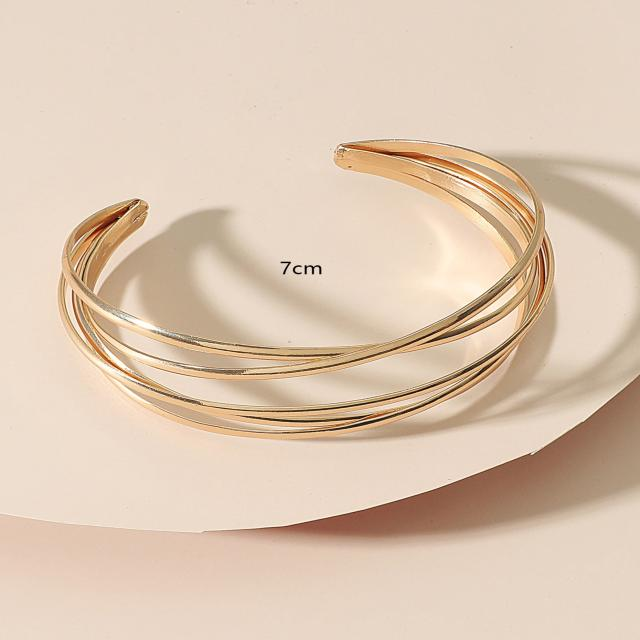bracelet: (10, 111, 640, 584)
